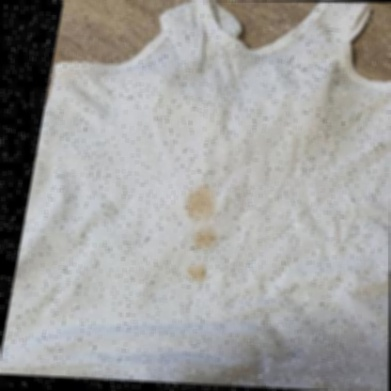coffee: (187, 186, 214, 219), (194, 228, 216, 250), (189, 262, 206, 281)
